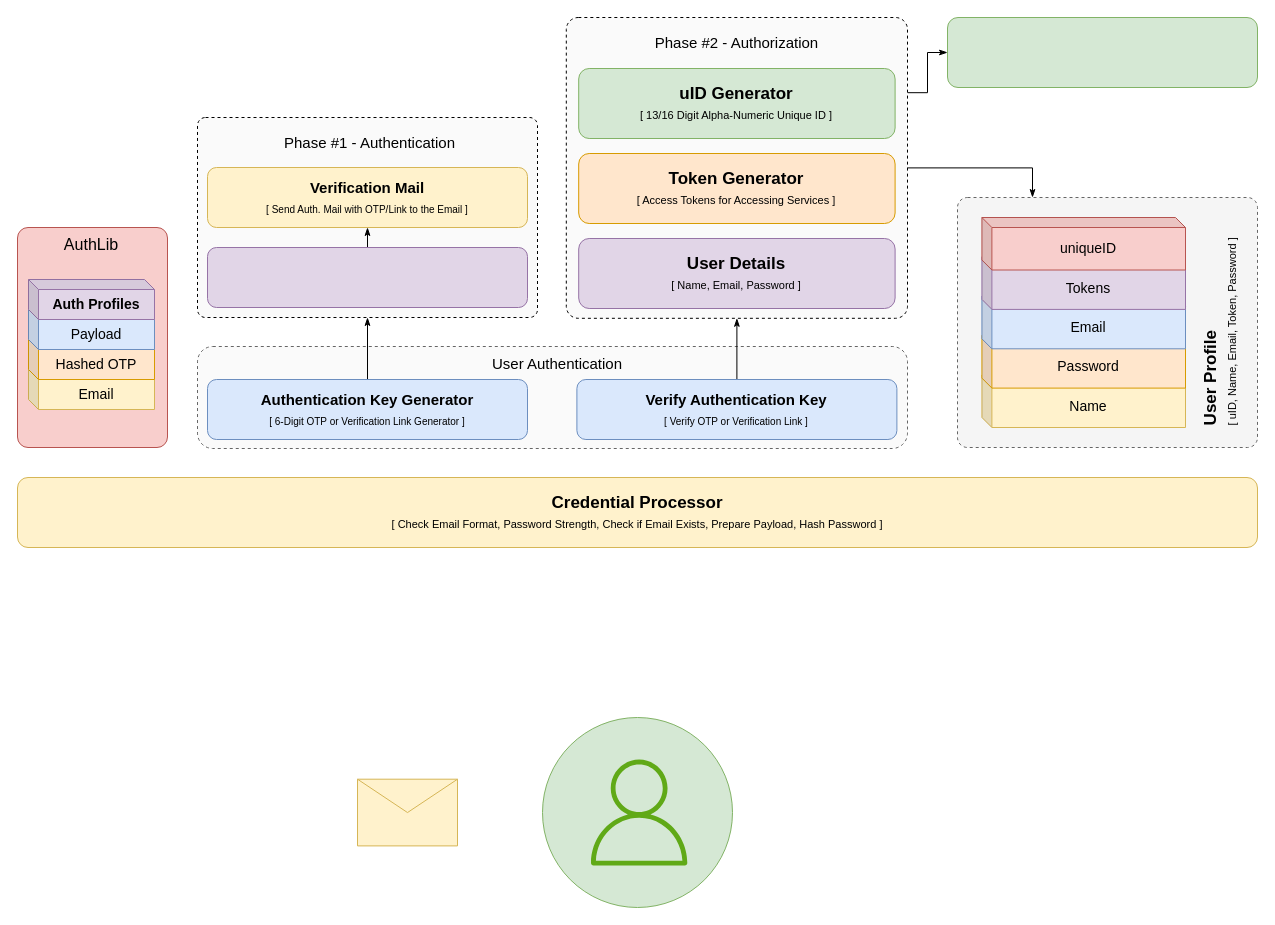
The diagram is 1275 pixels wide and 925 high, and some of its shapes have lost their labels. The centre of each missing label's shape, as x and y in pixels:
Register User to AuthLib [ Add Email, Hashed Auth Token, Payload to AuthLib ]: point 367,277
Run Account Initiation [ Generate User Configs, Initialization Setup ]: point 1102,52
